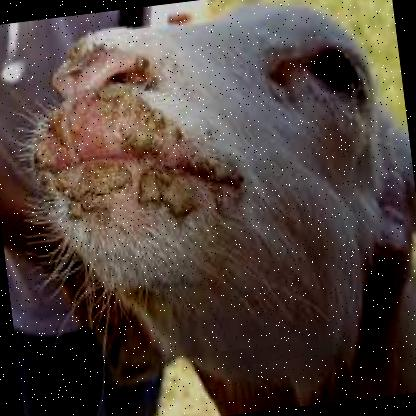ppr: (27, 58, 243, 246)
